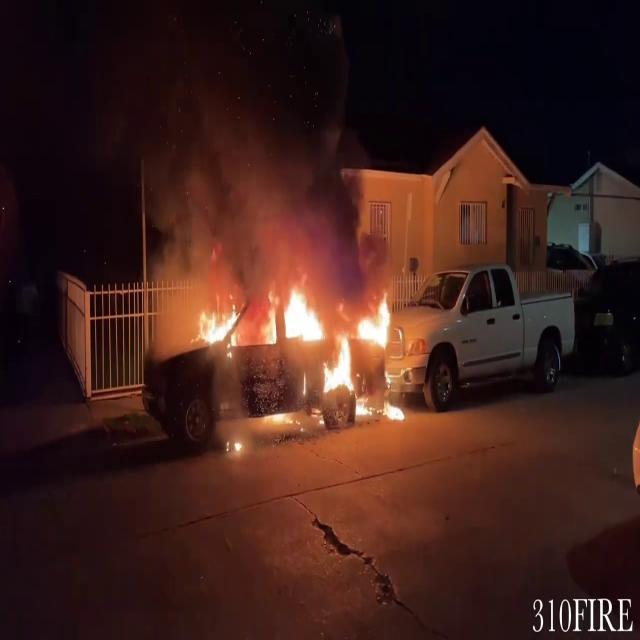Fire: (261, 276, 404, 389), (192, 297, 240, 353)
Smoke: (150, 22, 378, 292)
